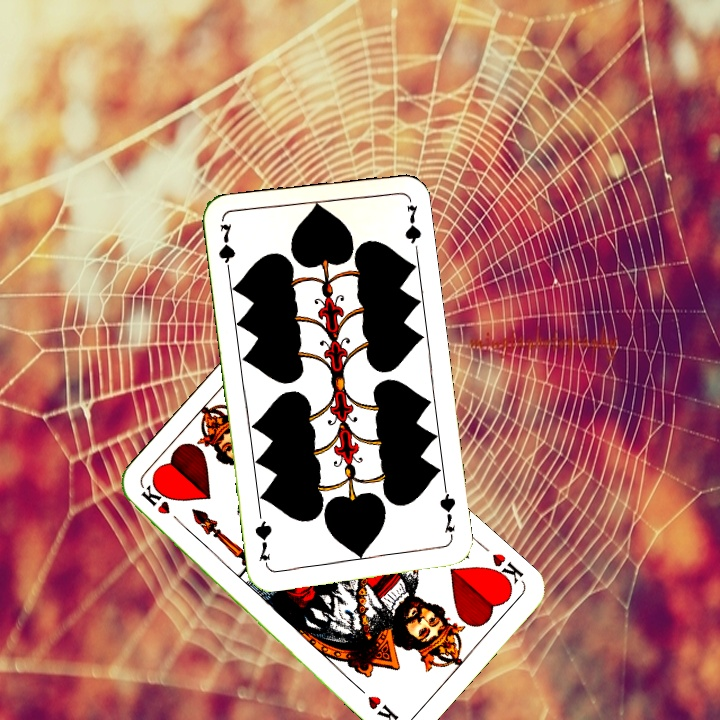G7: (214, 219, 238, 278), (435, 484, 458, 543)
HK: (137, 482, 187, 530), (483, 549, 526, 592)
